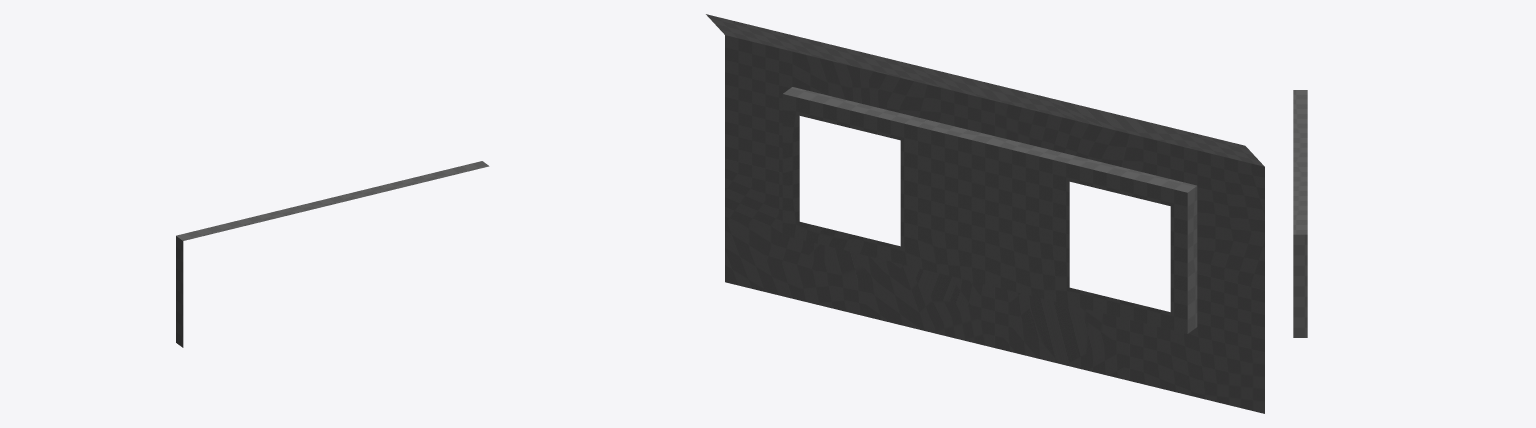
3 renders of one model, left to right at view 1: azimuth 30°, elevation 25°; view 2: azimuth 150°, elevation 25°; view 3: azimuth 270°, elevation 25°, orthographic. The views are drawn at different scales.
Visible parts, largest first — view 1: 2; view 2: 2; view 3: 2.
Part boxes in pixels (x1,y1,x2,y2): 2: (176, 161, 489, 347); 2: (706, 14, 1264, 413); 2: (1293, 90, 1307, 337).
Bounding box in the file's own units: 4 × 2 × 2.
2 materials, 2 textured.
